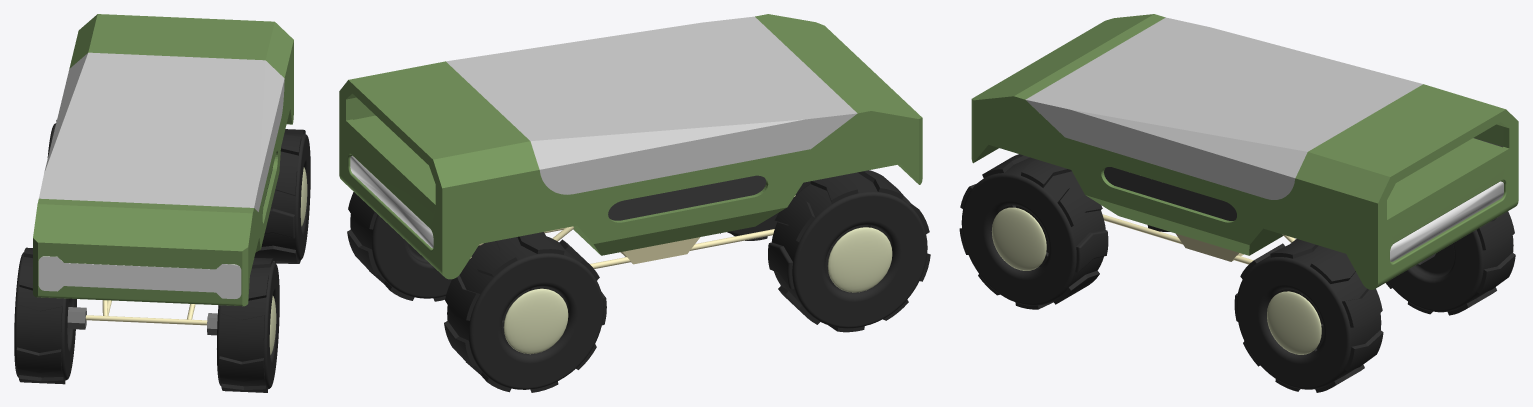
Rendered from axis-x.glb.
The picture shows the model from 3 angles, left to right: view 1: azimuth 30°, elevation 25°; view 2: azimuth 150°, elevation 25°; view 3: azimuth 270°, elevation 25°; orthographic projection. The views are drawn at different scales.
Parts seen in each view (by area): view 1: Body23, Body20, Body15, Body16, Body20.001, Body13, Body1, Cylinder.001, Sphere, Sphere.002; view 2: Body20, Body23, Body14, Body16, Body13, Sphere.001, Sphere.003, Body1, Body20.002, Body15; view 3: Body20, Body23, Body15, Body13, Body14, Sphere, Sphere.002, Body20.002, Body1.
Boxes of the visible parts, x1,y1,x2,y2 form: Body23: [39, 52, 284, 211]; Body20: [33, 14, 293, 306]; Body15: [217, 258, 279, 392]; Body16: [14, 247, 76, 384]; Body20.001: [38, 256, 241, 298]; Body13: [254, 129, 310, 263]; Body1: [85, 300, 207, 325]; Cylinder.001: [67, 307, 86, 329]; Sphere: [300, 167, 307, 226]; Sphere.002: [269, 296, 276, 355]; Body20: [339, 14, 922, 279]; Body23: [446, 16, 857, 194]; Body14: [444, 232, 606, 392]; Body16: [768, 170, 930, 332]; Body13: [347, 192, 480, 301]; Sphere.001: [828, 227, 892, 292]; Sphere.003: [503, 288, 568, 354]; Body1: [470, 195, 795, 268]; Body20.002: [350, 156, 433, 248]; Body15: [720, 181, 810, 240]; Body20: [971, 14, 1518, 289]; Body23: [1025, 17, 1422, 199]; Body15: [959, 154, 1108, 309]; Body13: [1234, 239, 1383, 392]; Body14: [1386, 211, 1515, 315]; Sphere: [1267, 291, 1321, 354]; Sphere.002: [991, 207, 1046, 270]; Body20.002: [1390, 181, 1503, 261]; Body1: [1102, 214, 1295, 264].
Bounding box in the file's own units: 3.6 × 1.74 × 3.96.
